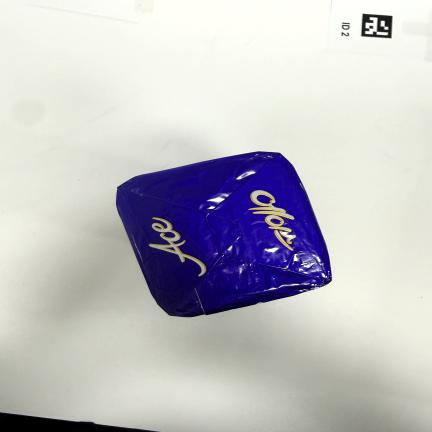cracker_ace: (116, 152, 332, 317)
